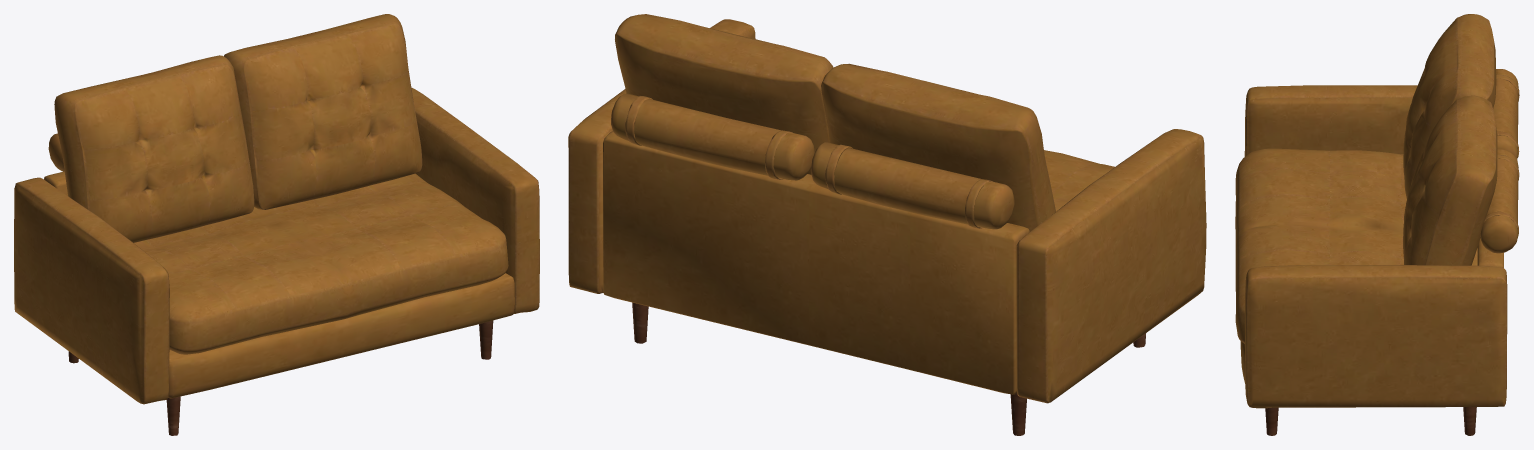
Rendered from B07P6JVMJL.glb.
The picture shows the model from 3 angles, left to right: view 1: azimuth 30°, elevation 25°; view 2: azimuth 150°, elevation 25°; view 3: azimuth 270°, elevation 25°; orthographic projection. The views are drawn at different scales.
Parts seen in each view (by area): view 1: RootNode; view 2: RootNode; view 3: RootNode.
Boxes of the visible parts, x1,y1,x2,y2 form: RootNode: [14, 14, 539, 435]; RootNode: [568, 14, 1206, 435]; RootNode: [1235, 14, 1519, 435].
Bounding box in the file's own units: 1.43 × 0.8973 × 0.8681.
Materials: 1 (1 with a texture image).
